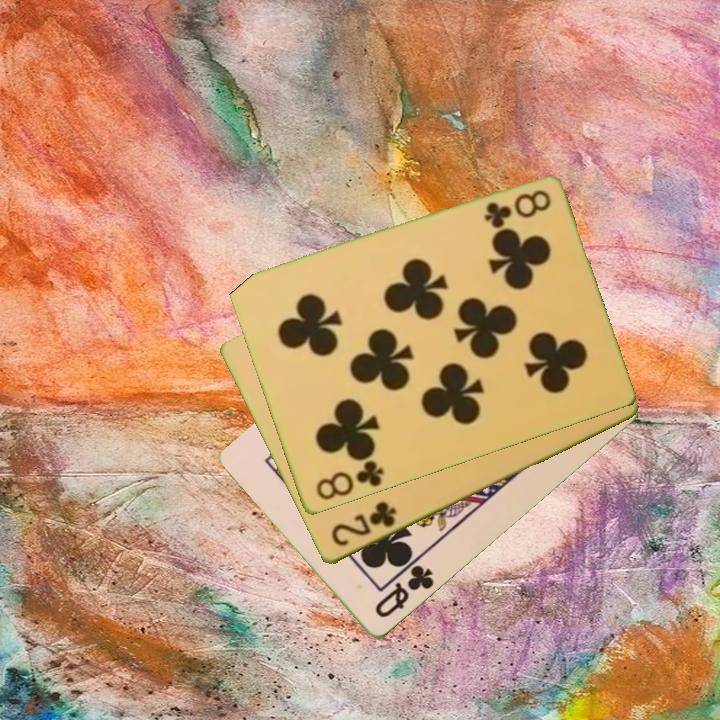2c: (327, 498, 400, 550)
8c: (312, 456, 387, 504), (480, 187, 554, 231)
Qc: (371, 561, 437, 622)
